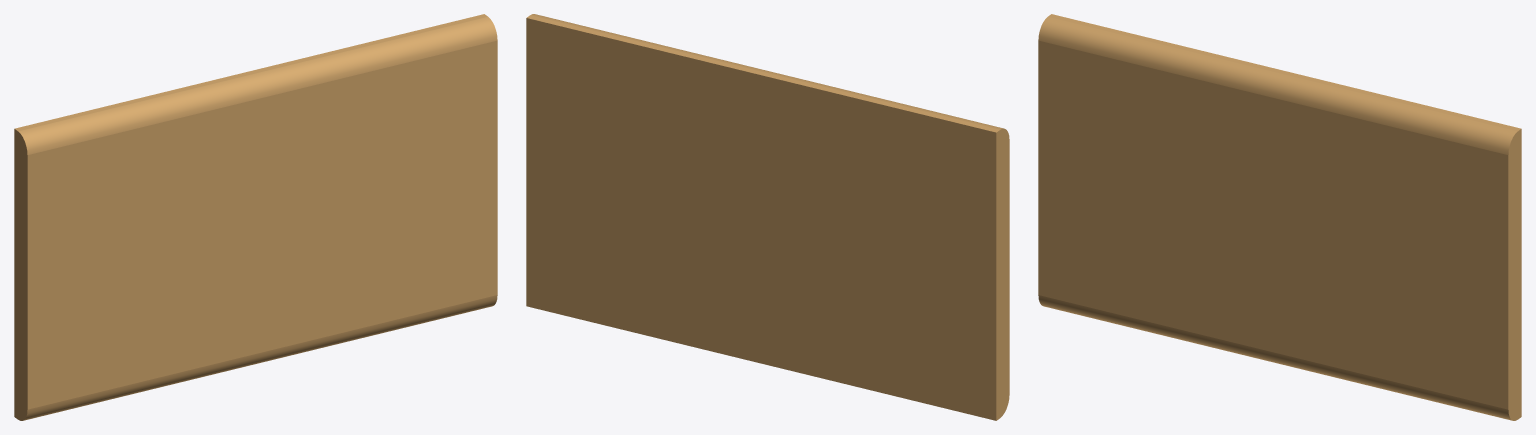
The model's file is original-1.obj.
The picture shows the model from 3 angles, left to right: view 1: azimuth 30°, elevation 25°; view 2: azimuth 150°, elevation 25°; view 3: azimuth 330°, elevation 25°; orthographic projection.
Parts seen in each view (by area): view 1: #ID41; view 2: #ID41; view 3: #ID41.
Boxes of the visible parts, left/top/right/bottom form: #ID41: left=14, top=14, right=497, bottom=420; #ID41: left=526, top=14, right=1009, bottom=420; #ID41: left=1038, top=14, right=1521, bottom=420.
Size of the model in its own units: 1.72 by 1.01 by 0.0831.
